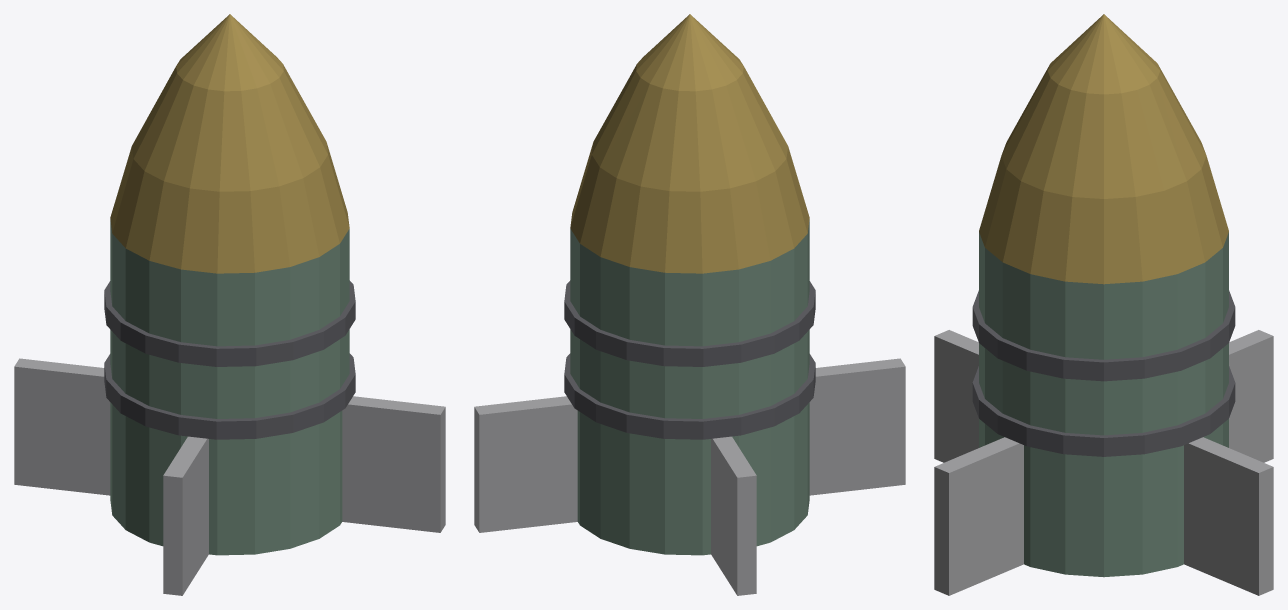
The model's file is vge_warpod_antigrain.obj.
3 views of the same model, side by side, from view 1: azimuth 30°, elevation 25°; view 2: azimuth 150°, elevation 25°; view 3: azimuth 270°, elevation 25° (orthographic). The views are drawn at different scales.
Visible parts, largest first — view 1: vge_warpod_antigrain_0, vge_warpod_antigrain_3, vge_warpod_antigrain_7, vge_warpod_antigrain_5, vge_warpod_antigrain_6, vge_warpod_antigrain_2, vge_warpod_antigrain_1; view 2: vge_warpod_antigrain_0, vge_warpod_antigrain_3, vge_warpod_antigrain_4, vge_warpod_antigrain_6, vge_warpod_antigrain_5, vge_warpod_antigrain_2, vge_warpod_antigrain_1; view 3: vge_warpod_antigrain_0, vge_warpod_antigrain_3, vge_warpod_antigrain_4, vge_warpod_antigrain_7, vge_warpod_antigrain_2, vge_warpod_antigrain_1, vge_warpod_antigrain_5, vge_warpod_antigrain_6.
Part boxes in pixels (bbox=[...]): vge_warpod_antigrain_0: bbox=[110, 219, 349, 555]; vge_warpod_antigrain_3: bbox=[110, 14, 349, 273]; vge_warpod_antigrain_7: bbox=[342, 396, 445, 532]; vge_warpod_antigrain_5: bbox=[14, 358, 110, 495]; vge_warpod_antigrain_6: bbox=[163, 436, 208, 595]; vge_warpod_antigrain_2: bbox=[104, 280, 355, 366]; vge_warpod_antigrain_1: bbox=[104, 353, 355, 439]; vge_warpod_antigrain_0: bbox=[570, 219, 809, 555]; vge_warpod_antigrain_3: bbox=[570, 14, 809, 273]; vge_warpod_antigrain_4: bbox=[474, 396, 577, 532]; vge_warpod_antigrain_6: bbox=[809, 358, 905, 495]; vge_warpod_antigrain_5: bbox=[711, 436, 756, 595]; vge_warpod_antigrain_2: bbox=[564, 280, 815, 366]; vge_warpod_antigrain_1: bbox=[564, 353, 815, 439]; vge_warpod_antigrain_0: bbox=[979, 232, 1228, 577]; vge_warpod_antigrain_3: bbox=[979, 14, 1228, 284]; vge_warpod_antigrain_4: bbox=[1184, 437, 1273, 595]; vge_warpod_antigrain_7: bbox=[934, 437, 1023, 595]; vge_warpod_antigrain_2: bbox=[972, 290, 1235, 381]; vge_warpod_antigrain_1: bbox=[972, 366, 1235, 456]; vge_warpod_antigrain_5: bbox=[1229, 330, 1273, 462]; vge_warpod_antigrain_6: bbox=[934, 330, 978, 462].
Size of the model in its own units: 0.6506 by 1.08 by 0.6506.
